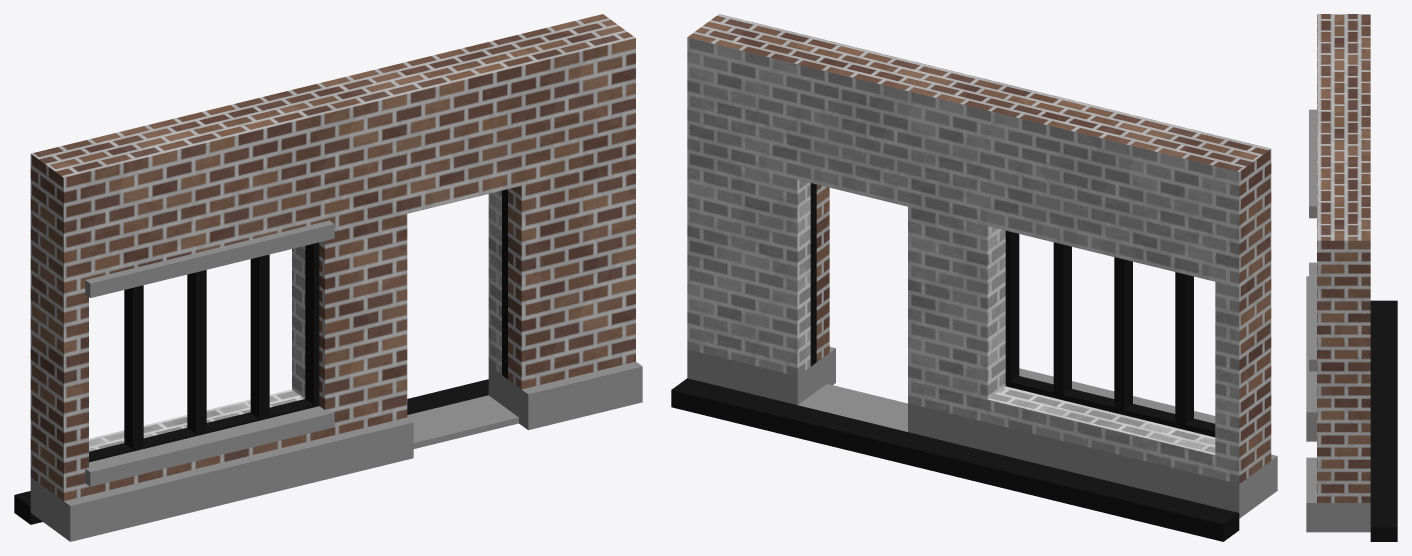
Rendered from Door_Wall_001.FBX.
3 views of the same model, side by side, from view 1: azimuth 30°, elevation 25°; view 2: azimuth 150°, elevation 25°; view 3: azimuth 270°, elevation 25° (orthographic). The views are drawn at different scales.
Parts seen in each view (by area): view 1: Door_Wall_001; view 2: Door_Wall_001; view 3: Door_Wall_001.
Boxes of the visible parts, bbox=[...] form: Door_Wall_001: bbox=[14, 14, 642, 541]; Door_Wall_001: bbox=[671, 14, 1277, 541]; Door_Wall_001: bbox=[1306, 14, 1397, 541].
Size of the model in its own units: 500 by 85 by 310.
